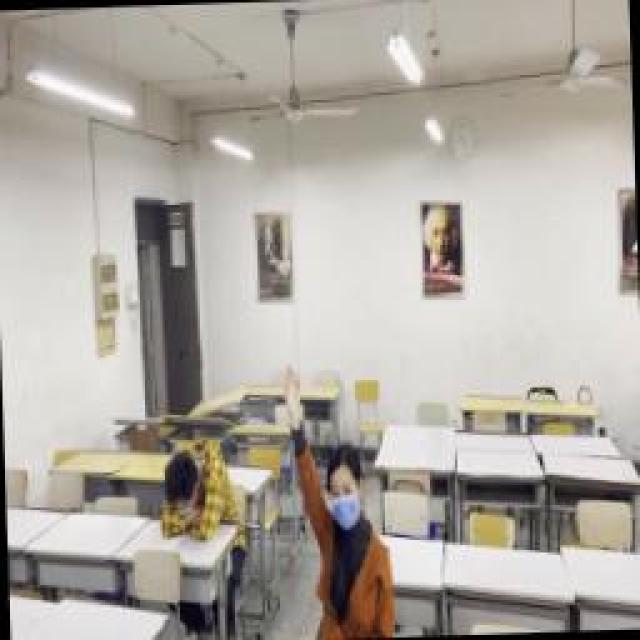sleep: (160, 435, 238, 540)
study: (287, 362, 395, 640)
